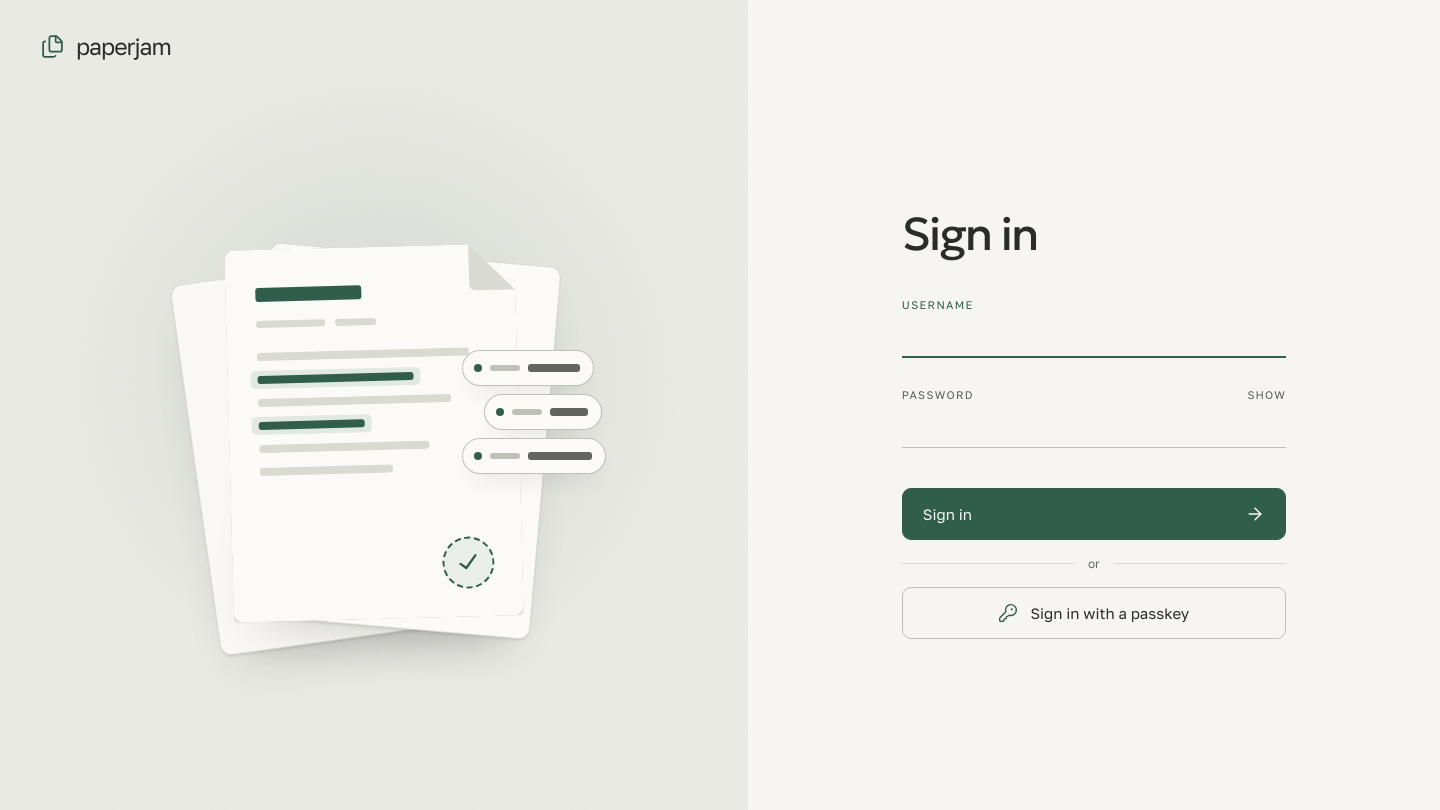
Test case: LoginPage passkey sign-in › stays quiet when the sheet is closed and explains a removed passkey
Click the button "Sign in with a passkey" at [1094, 613], box [902,587,1286,639]
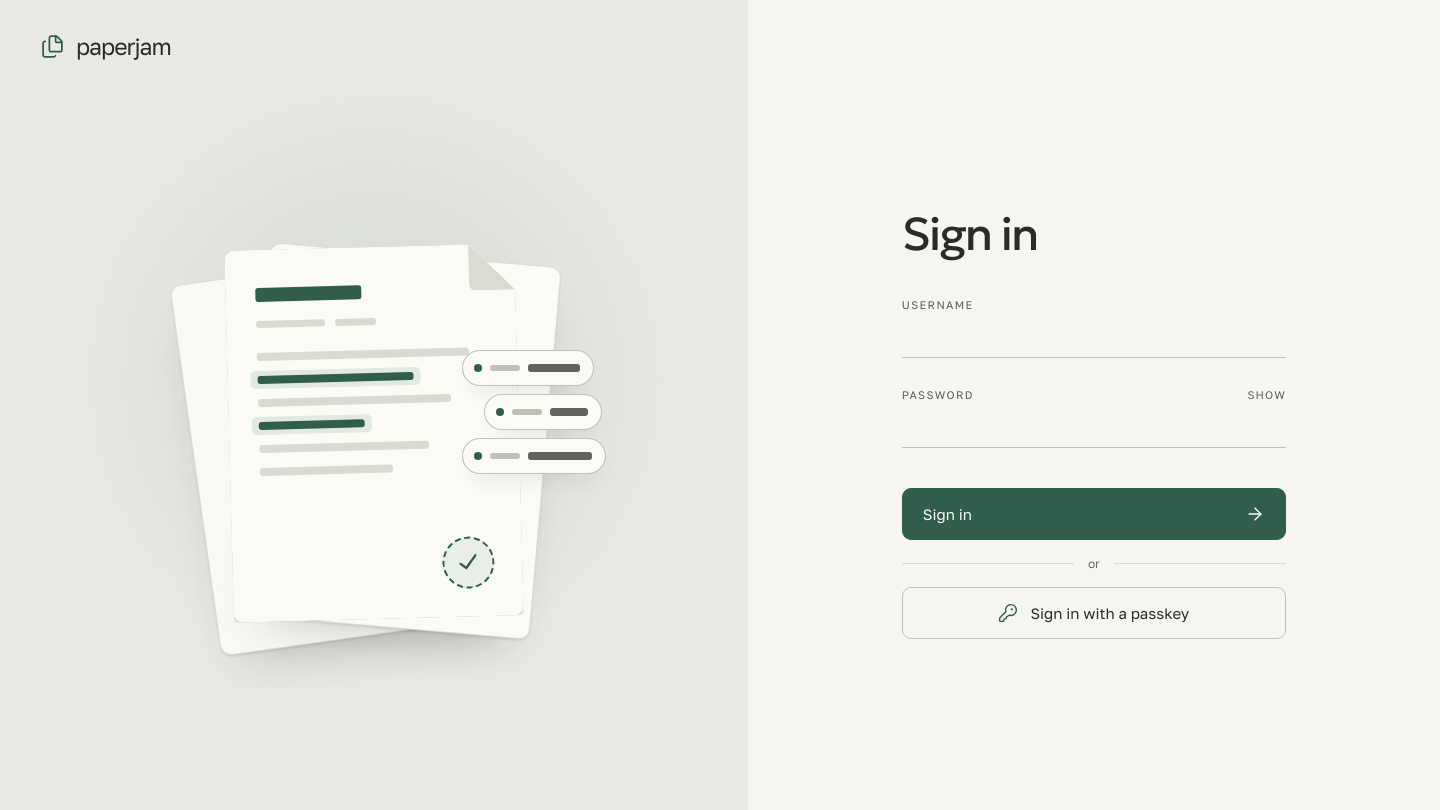
Click the button "Sign in with a passkey" at [1094, 613], box [902,587,1286,639]
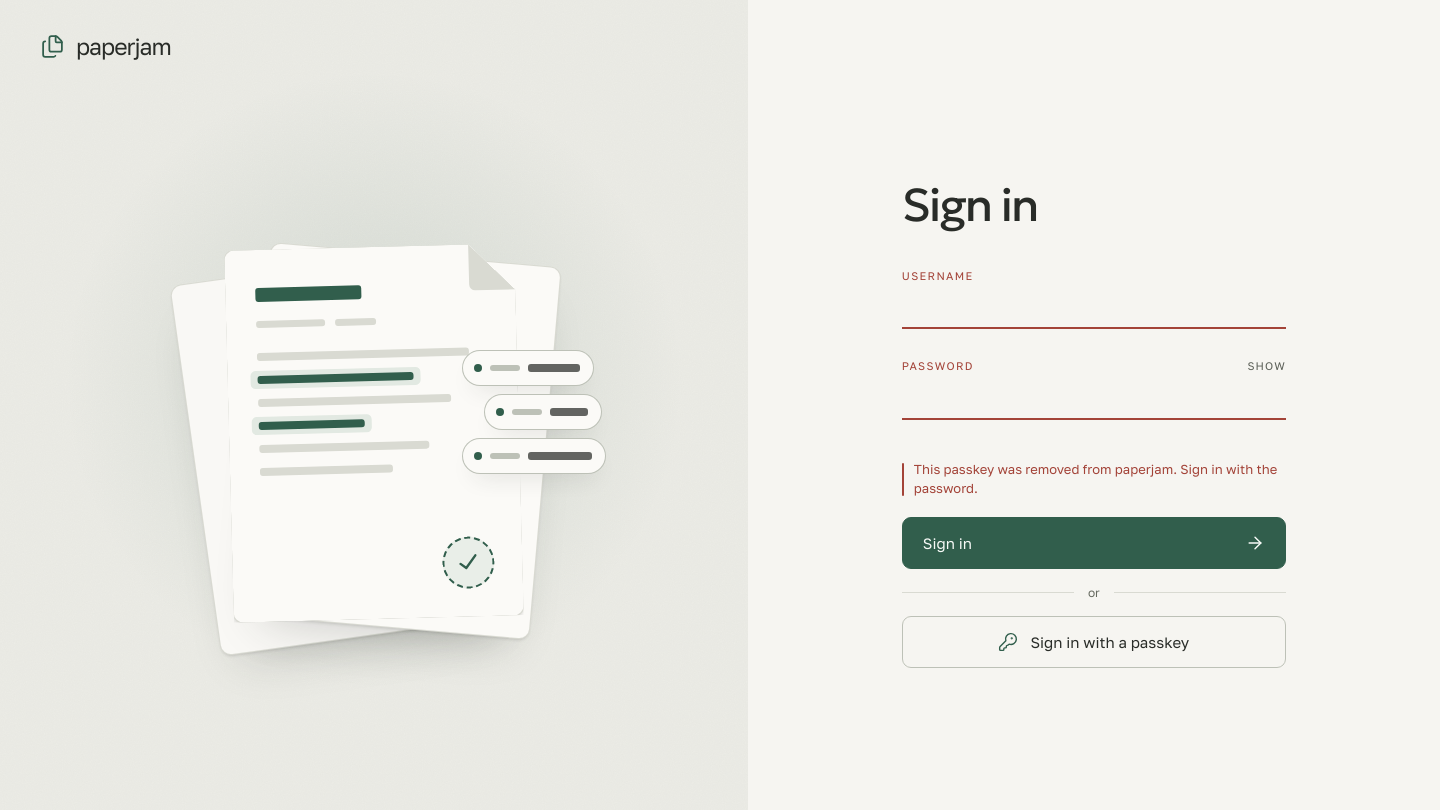
Expected: the message "This passkey was removed from paperjam. Sign in with the password." is shown, [902,460,1286,499]
